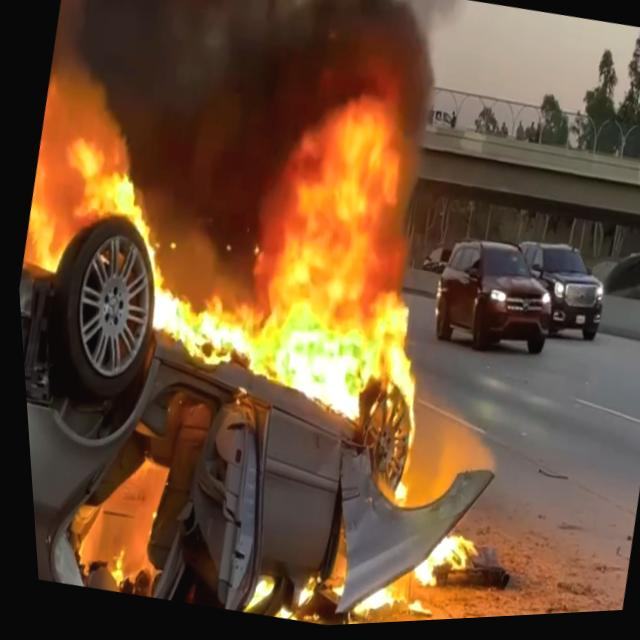fire: (193, 48, 492, 508), (17, 40, 185, 243), (139, 267, 245, 380)
smoke: (153, 0, 279, 203), (252, 0, 470, 92)
